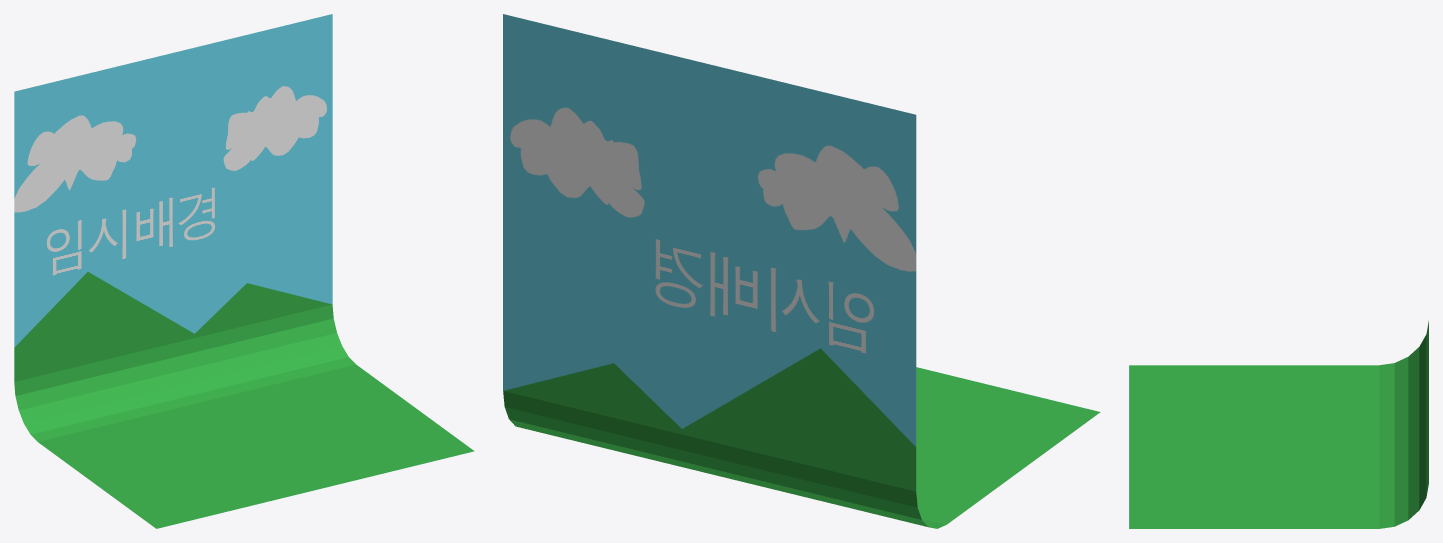
Rendered from back1.dae.
The picture shows the model from 3 angles, left to right: view 1: azimuth 30°, elevation 25°; view 2: azimuth 150°, elevation 25°; view 3: azimuth 270°, elevation 25°; orthographic projection. The views are drawn at different scales.
Parts seen in each view (by area): view 1: Plane_001; view 2: Plane_001; view 3: Plane_001.
Part boxes in pixels (x1,y1,x2,y2): Plane_001: (14,14,474,528); Plane_001: (503,14,1100,528); Plane_001: (1129,321,1428,528).
Bounding box in the file's own units: 25.59 × 19.8 × 25.59.
Materials: 1 (1 with a texture image).
